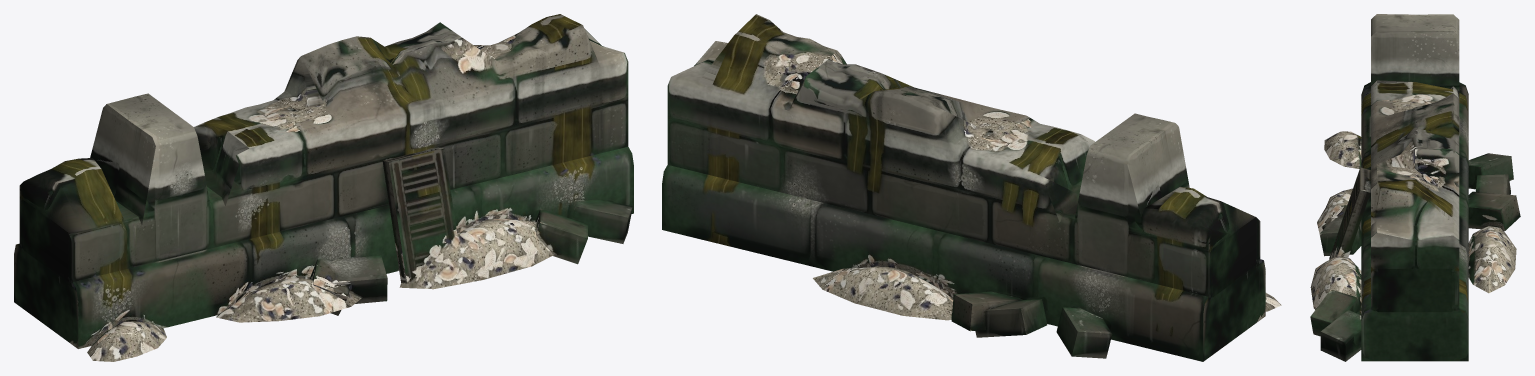
Rendered from drowned_wall_low.glb.
The picture shows the model from 3 angles, left to right: view 1: azimuth 30°, elevation 25°; view 2: azimuth 150°, elevation 25°; view 3: azimuth 270°, elevation 25°; orthographic projection. The views are drawn at different scales.
Visible parts, largest first — view 1: drowned_wall_low; view 2: drowned_wall_low; view 3: drowned_wall_low.
Boxes of the visible parts, bbox=[...] form: drowned_wall_low: bbox=[14, 14, 633, 361]; drowned_wall_low: bbox=[662, 14, 1281, 361]; drowned_wall_low: bbox=[1310, 14, 1520, 361].
Bounding box in the file's own units: 4.01 × 1.41 × 1.57.
Materials: 1 (1 with a texture image).
